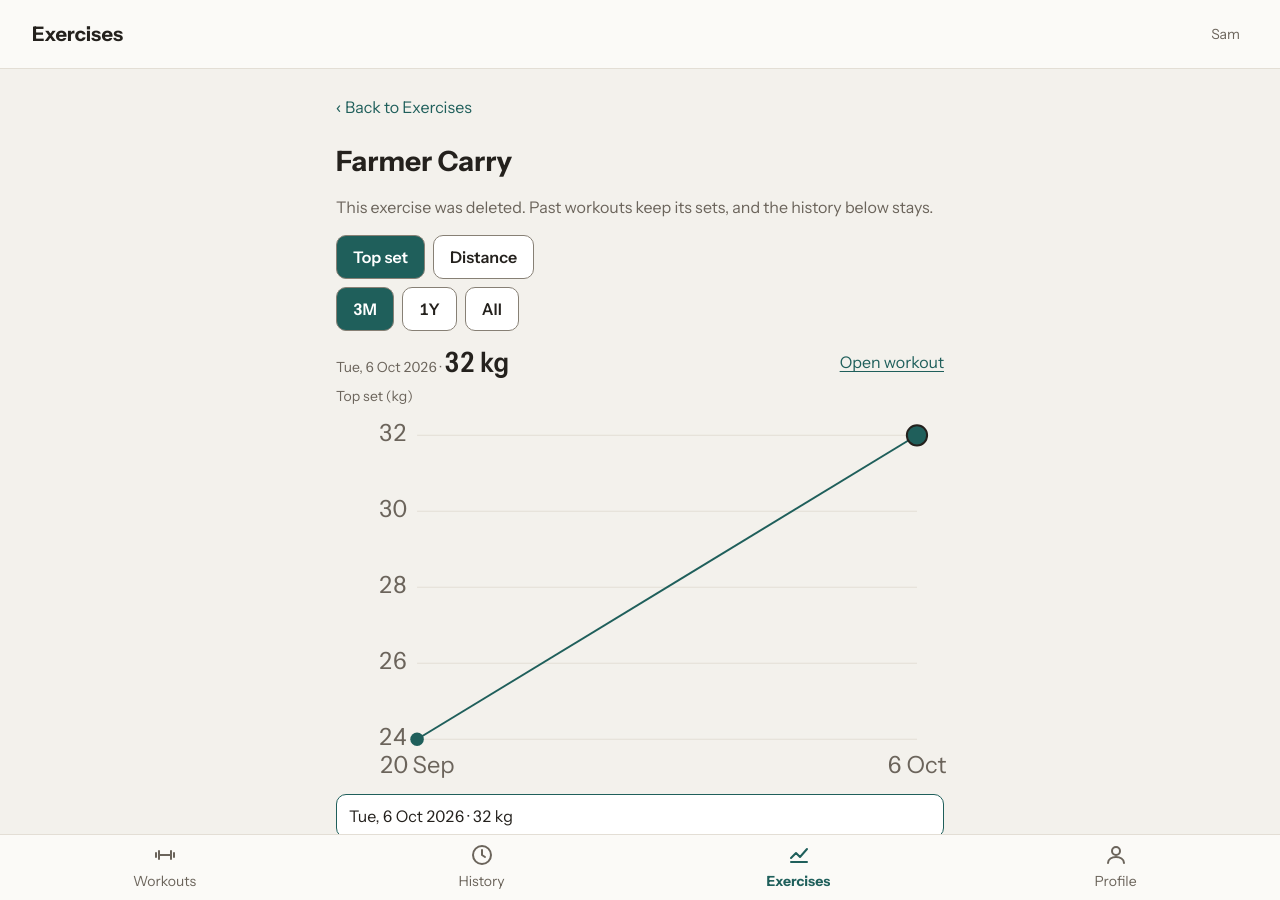
it: 18.1 AC31 — the chips › a carry offers Top set and Distance; Distance draws meters
The image size is (1280, 900).
Expected: the picture named "Top set," is shown, [336,415,944,786]
Click the button "Distance" at [484, 257], box [433,235,534,279]
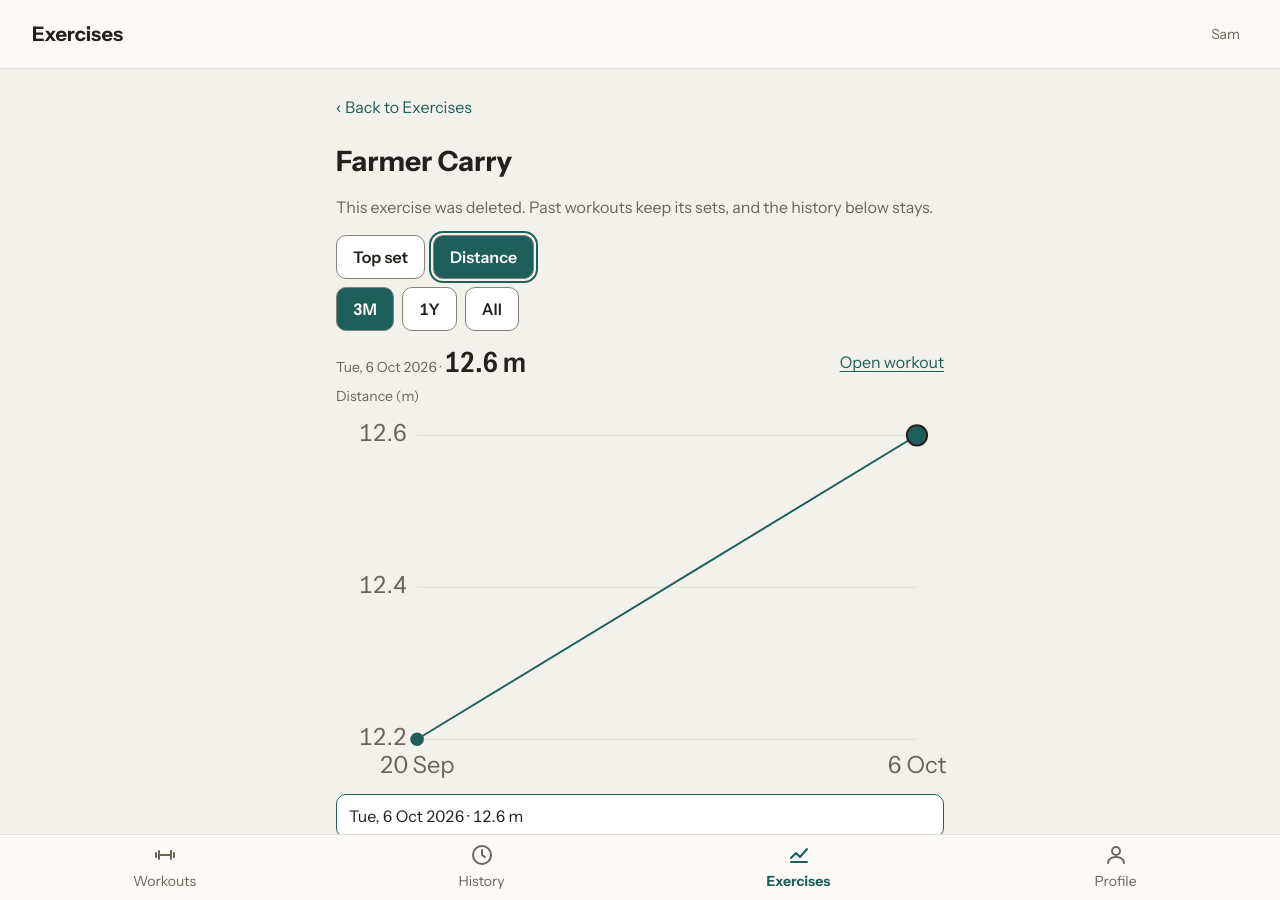
Expected: the picture named "Distance," is shown, [336,415,944,786]
Result: the text "Distance (m)" is shown at [336,387,419,405]
